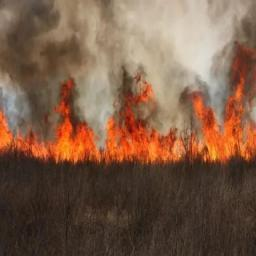Low smoke: (0, 2, 256, 108)
Medium fire: (0, 31, 256, 167)
